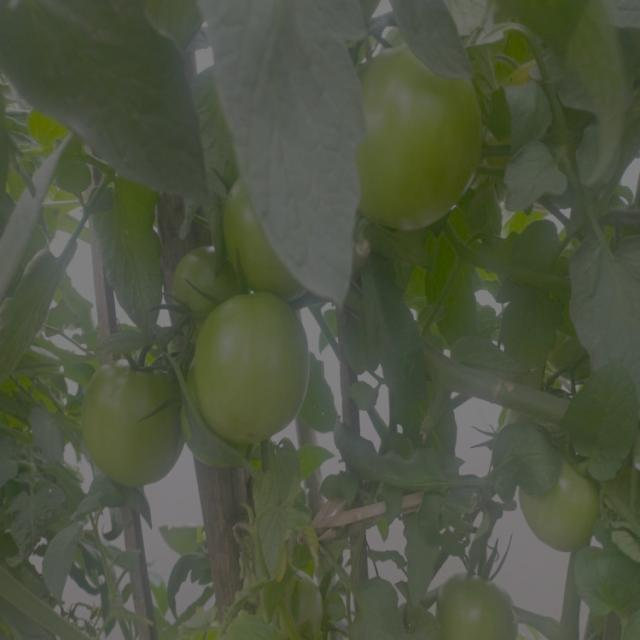tomato: (357, 41, 471, 226), (191, 287, 318, 443), (79, 346, 185, 491), (216, 173, 314, 291), (521, 444, 611, 550), (430, 560, 512, 640), (168, 240, 231, 300)
